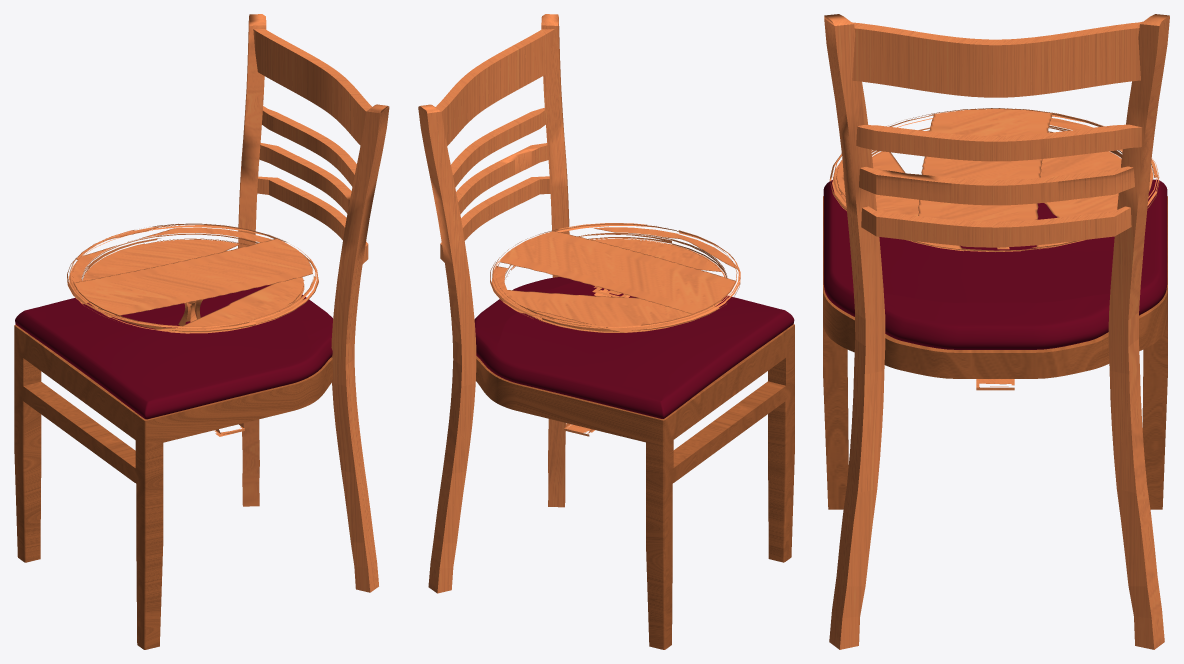
File: Chair.fbx
3 renders of one model, left to right at view 1: azimuth 30°, elevation 25°; view 2: azimuth 150°, elevation 25°; view 3: azimuth 270°, elevation 25°, orthographic. The views are drawn at different scales.
Visible parts, largest first — view 1: Cube.003, Cube.008, Cube, Cylinder; view 2: Cube.003, Cube, Cube.008, Cylinder; view 3: Cube.003, Cube.008, Cube, Cylinder.
Part boxes in pixels (x1=…): Cube.003: x1=238, y1=14, x2=389, y2=592; Cube.008: x1=15, y1=284, x2=332, y2=419; Cube: x1=14, y1=324, x2=332, y2=649; Cylinder: x1=67, y1=223, x2=318, y2=333; Cube.003: x1=418, y1=14, x2=569, y2=593; Cube: x1=476, y1=324, x2=794, y2=649; Cube.008: x1=474, y1=277, x2=794, y2=418; Cylinder: x1=490, y1=223, x2=740, y2=332; Cube.003: x1=824, y1=14, x2=1169, y2=649; Cube.008: x1=823, y1=179, x2=1167, y2=349; Cube: x1=823, y1=196, x2=1167, y2=509; Cylinder: x1=829, y1=108, x2=1159, y2=251.
Size of the model in its own units: 266 by 479 by 237.
